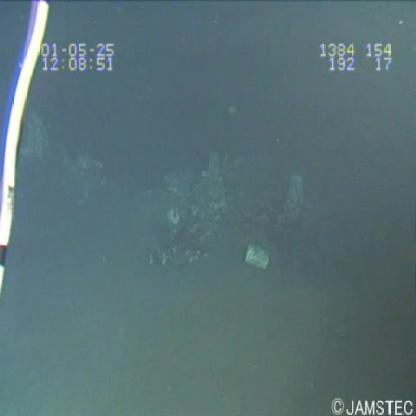Rov: (1, 1, 53, 310)
Rác: (242, 239, 275, 276)
